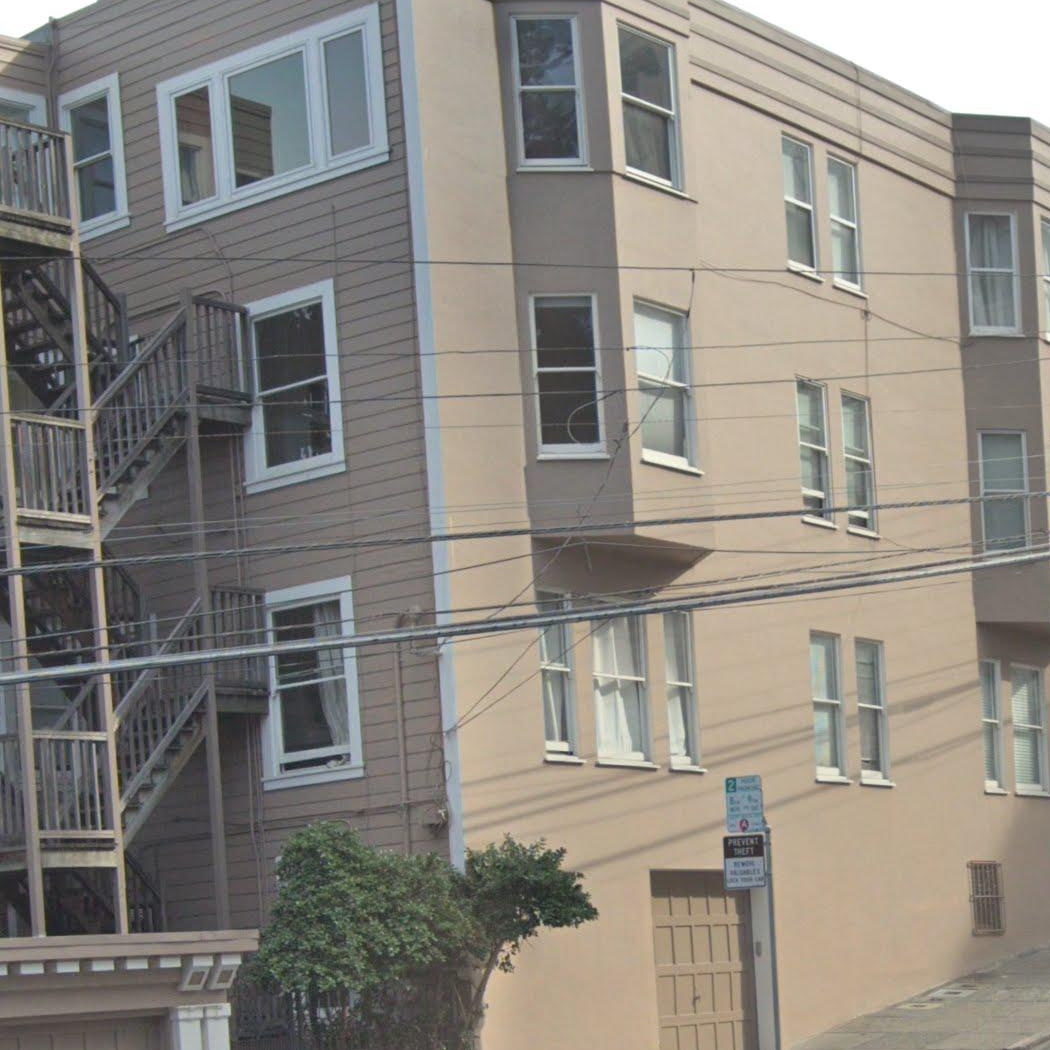2 Hour Parking: (722, 773, 768, 836)
